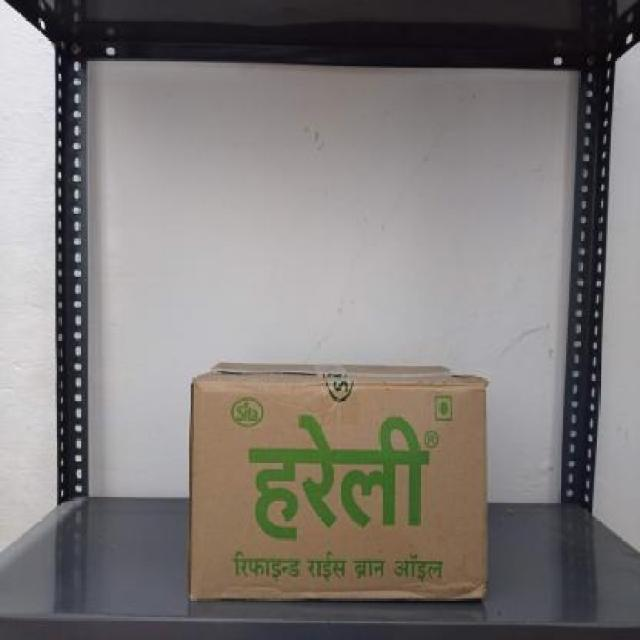box: (191, 381, 489, 603)
